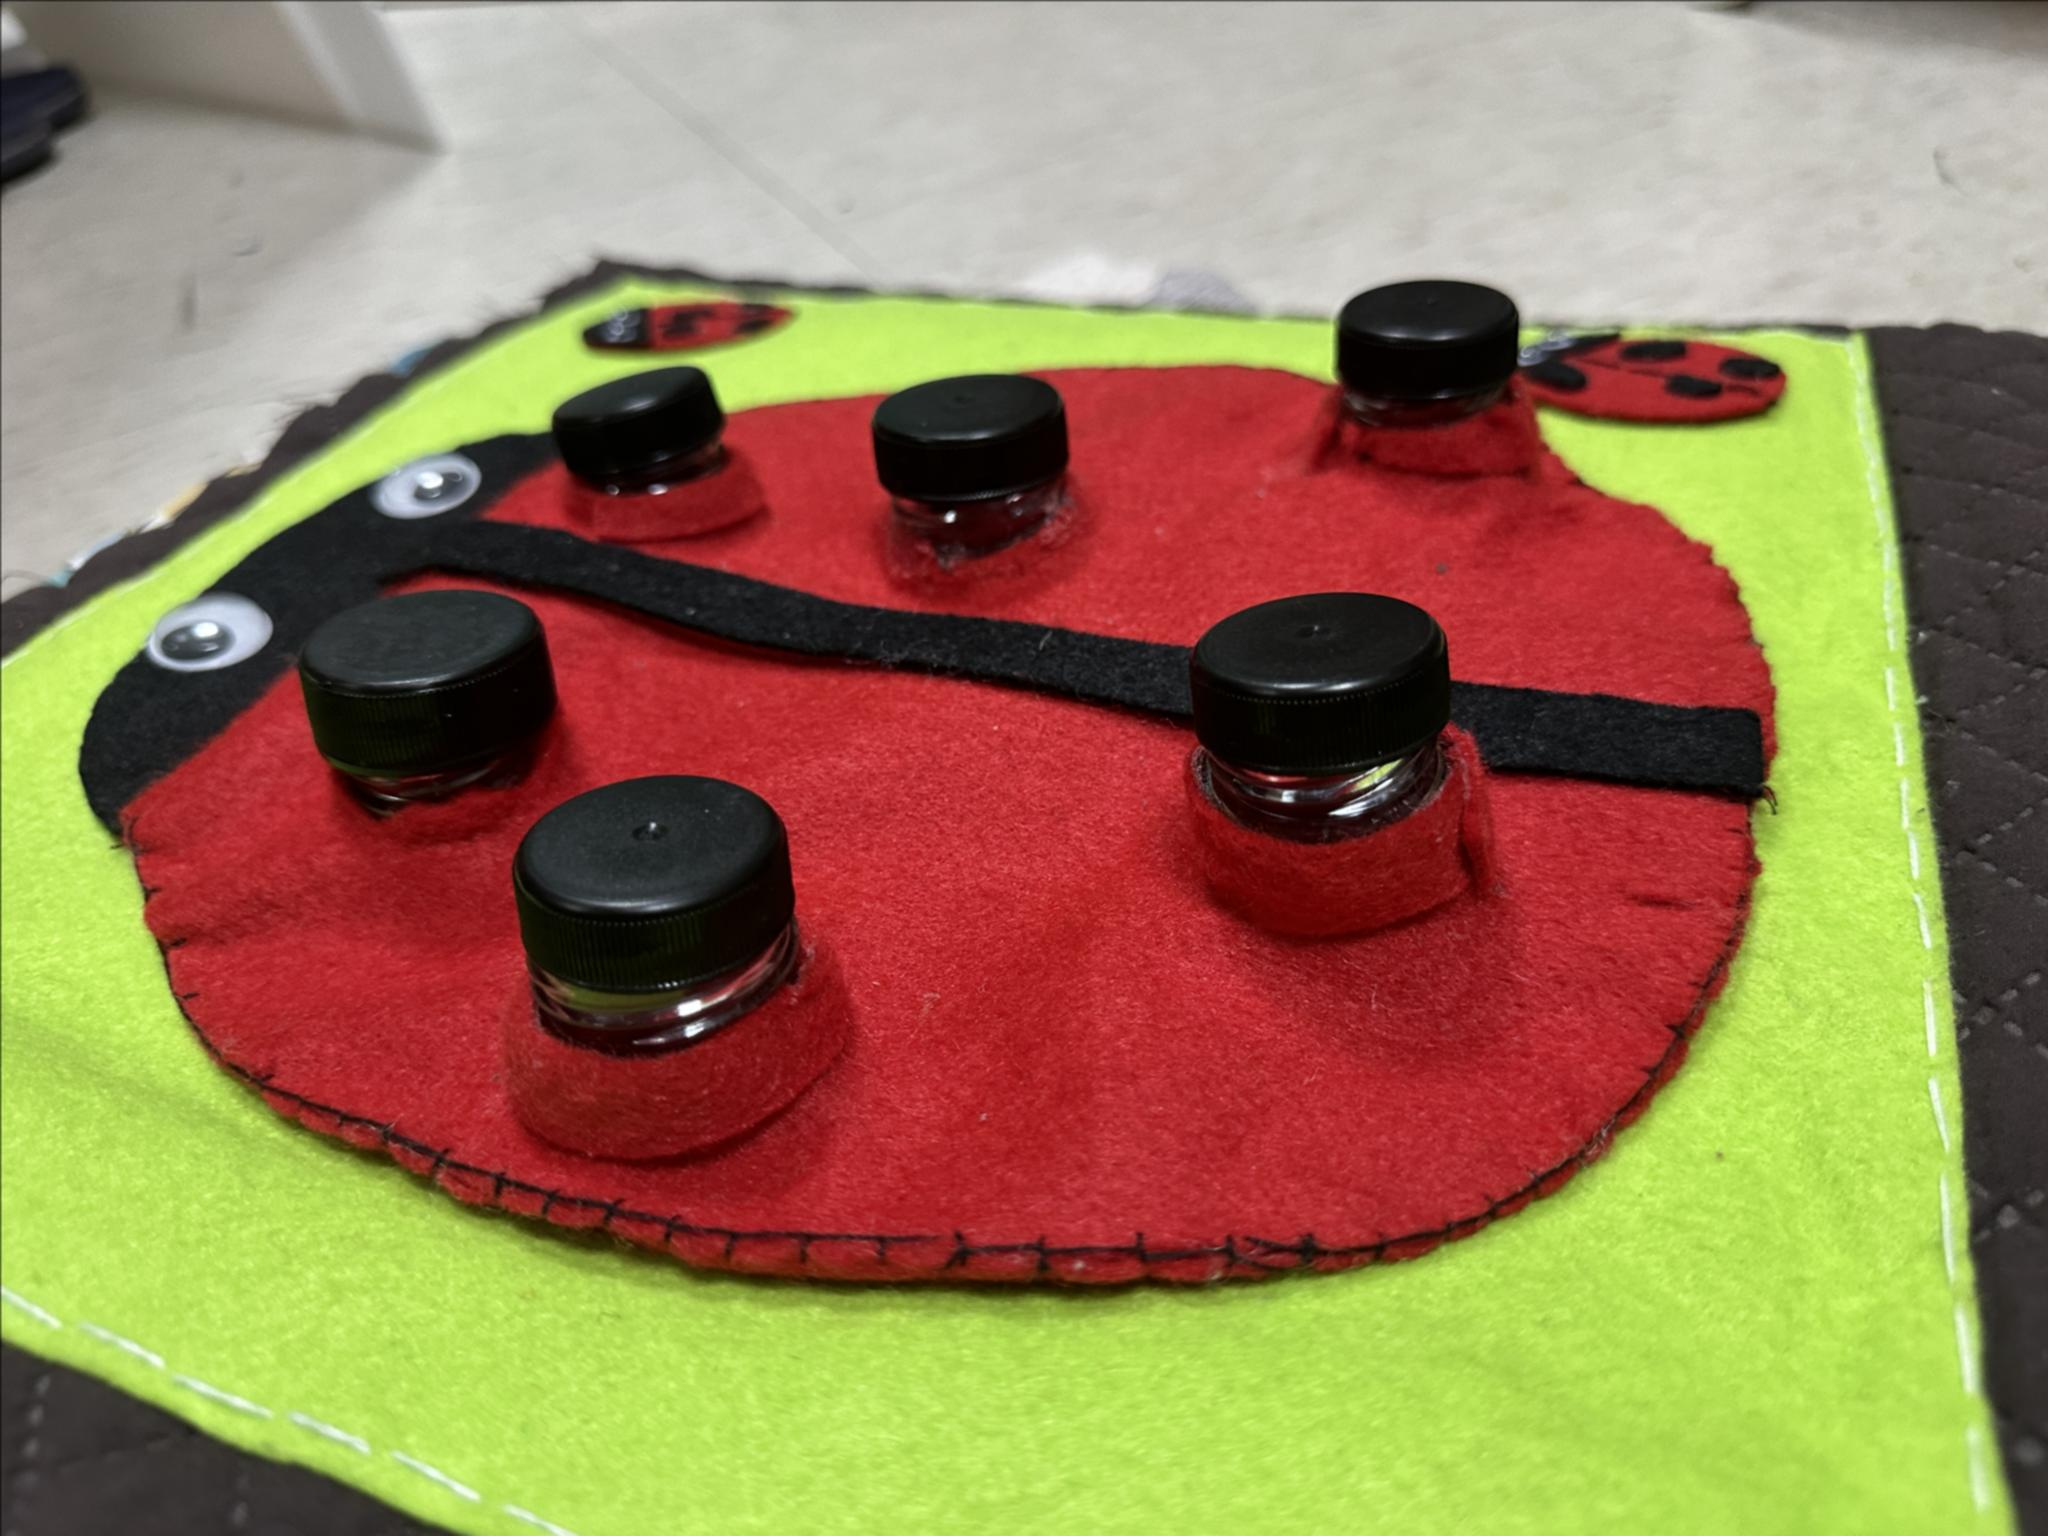cap_ng: (484, 768, 869, 1175), (1158, 591, 1526, 960), (273, 566, 581, 842), (529, 339, 792, 558), (850, 339, 1090, 573), (1319, 260, 1553, 490)
